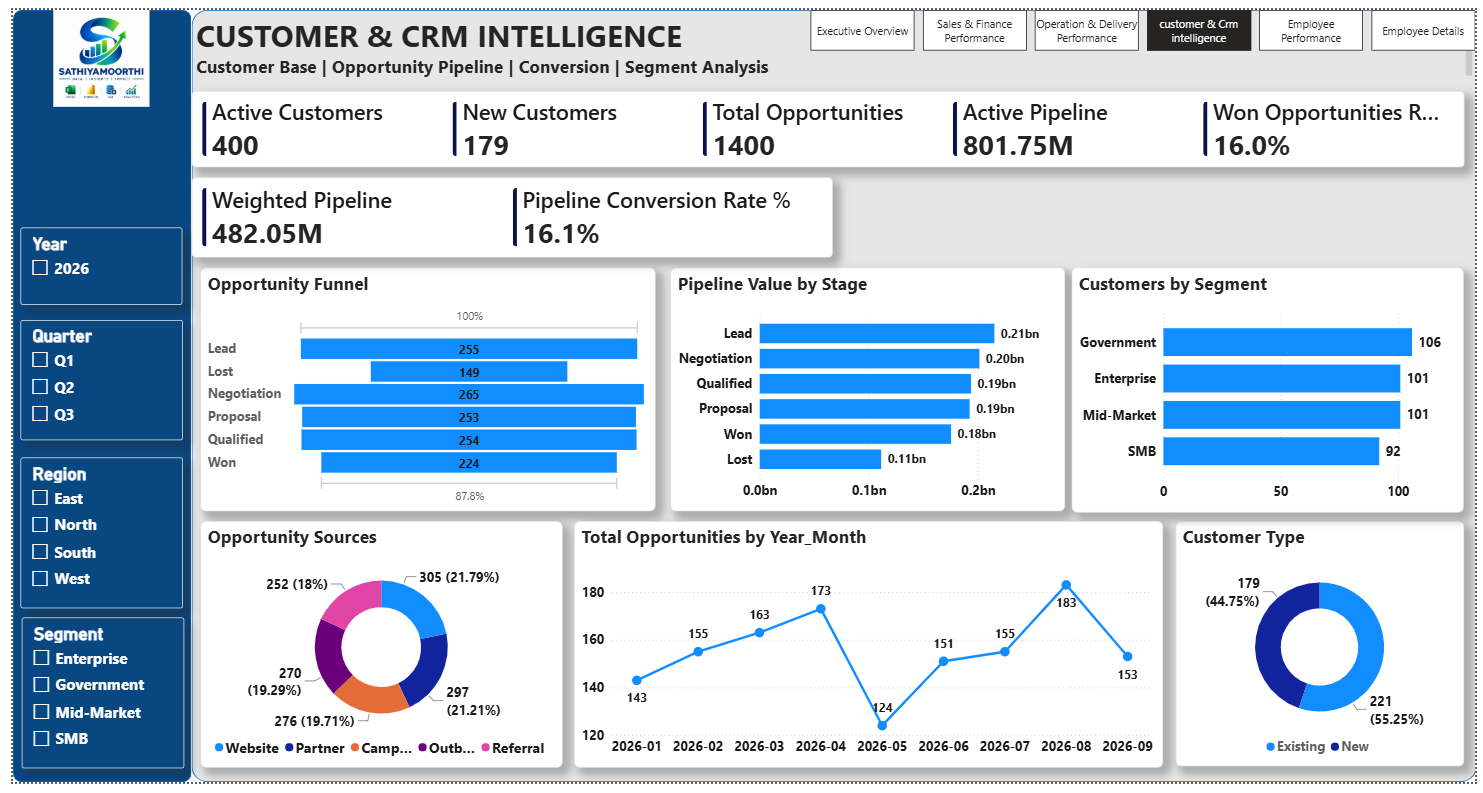

The dashboard page shown, as its layout file describes it:
{"tool":"powerbi","page":{"name":"customer & Crm intelligence","canvas":[1800,950],"ordinal":3},"visuals":[{"type":"shape","box":[0,0,219.4,950.3],"z":0},{"type":"shape","box":[219.4,0,1581.2,950.3],"z":1000},{"type":"textbox","box":[219.4,0,1581.2,87.1],"z":2000},{"type":"cardVisual","fields":{"Data":["Measure.Total Customers","Measure.New Customers","Measure.Total Opportunities","Measure.Active Pipeline","Measure.Won Opportunities Rate"]},"box":[219.4,100,1566.7,93.6],"z":3000},{"type":"funnel","title":"Opportunity Funnel","fields":{"Category":["FactOpportunities.Stage"],"Y":["Measure.Total Opportunities"]},"box":[230.7,316.2,559.9,300.1],"z":4000},{"type":"clusteredBarChart","title":"Pipeline Value by Stage","fields":{"Y":["Measure.Pipeline Value"],"Category":["FactOpportunities.Stage"]},"box":[810,316.2,485.7,300.1],"z":5000},{"type":"donutChart","title":"Opportunity Sources","fields":{"Category":["FactOpportunities.Source"],"Y":["Measure.Total Opportunities"]},"box":[230.7,629.2,445.3,303.3],"z":6000},{"type":"donutChart","title":"Customer Type","fields":{"Category":["DimCustomer.Customer_Type"],"Y":["Measure.Total Customers"]},"box":[1431.1,629.2,355,301.7],"z":7000},{"type":"slicer","fields":{"Values":["DimDate.Year"]},"box":[9.8,268.2,199.5,94.8],"z":8000},{"type":"slicer","fields":{"Values":["DimDate.Quarter"]},"box":[9,381.7,199.8,147.6],"z":9000},{"type":"slicer","fields":{"Values":["DimRegion.Region"]},"box":[9,550.9,199.8,185.4],"z":10000},{"type":"image","box":[0,0,217.8,118.8],"z":11000},{"type":"clusteredBarChart","title":"Customers by Segment","fields":{"Y":["Measure.Total Customers"],"Category":["DimCustomer.Segment"]},"box":[1303.7,316.2,482.4,301.7],"z":12000},{"type":"lineChart","fields":{"Category":["DimDate.Year_Month"],"Y":["Measure.Total Opportunities"]},"box":[690.6,629.2,724.4,303.3],"z":13000},{"type":"slicer","fields":{"Values":["DimCustomer.Segment"]},"box":[10,748.3,199.8,185.4],"z":14000},{"type":"cardVisual","fields":{"Data":["Measure.Weighted Pipeline","Measure.Pipeline Conversion Rate %"]},"box":[220.5,206.7,789.1,98.2],"z":15000},{"type":"pageNavigator","box":[982,0,818,50],"z":16000}]}

Visuals, with their boxes in screenshot pixels (x1, y1, x2, y2), scaled from the page's 1800x950 canvas onto the 1483x793 screenshot:
shape: 0, 0, 181, 792
shape: 181, 0, 1482, 792
textbox: 181, 0, 1482, 73
cardVisual - Measure.Total Customers x Measure.New Customers: 181, 83, 1472, 162
"Opportunity Funnel" funnel: 190, 264, 651, 514
"Pipeline Value by Stage" clusteredBarChart: 667, 264, 1068, 514
"Opportunity Sources" donutChart: 190, 525, 557, 778
"Customer Type" donutChart: 1179, 525, 1472, 777
slicer - DimDate.Year: 8, 224, 172, 303
slicer - DimDate.Quarter: 7, 319, 172, 442
slicer - DimRegion.Region: 7, 460, 172, 615
image: 0, 0, 179, 99
"Customers by Segment" clusteredBarChart: 1074, 264, 1472, 516
lineChart - DimDate.Year_Month x Measure.Total Opportunities: 569, 525, 1166, 778
slicer - DimCustomer.Segment: 8, 625, 173, 779
cardVisual - Measure.Weighted Pipeline x Measure.Pipeline Conversion Rate %: 182, 173, 832, 255
pageNavigator: 809, 0, 1482, 42
